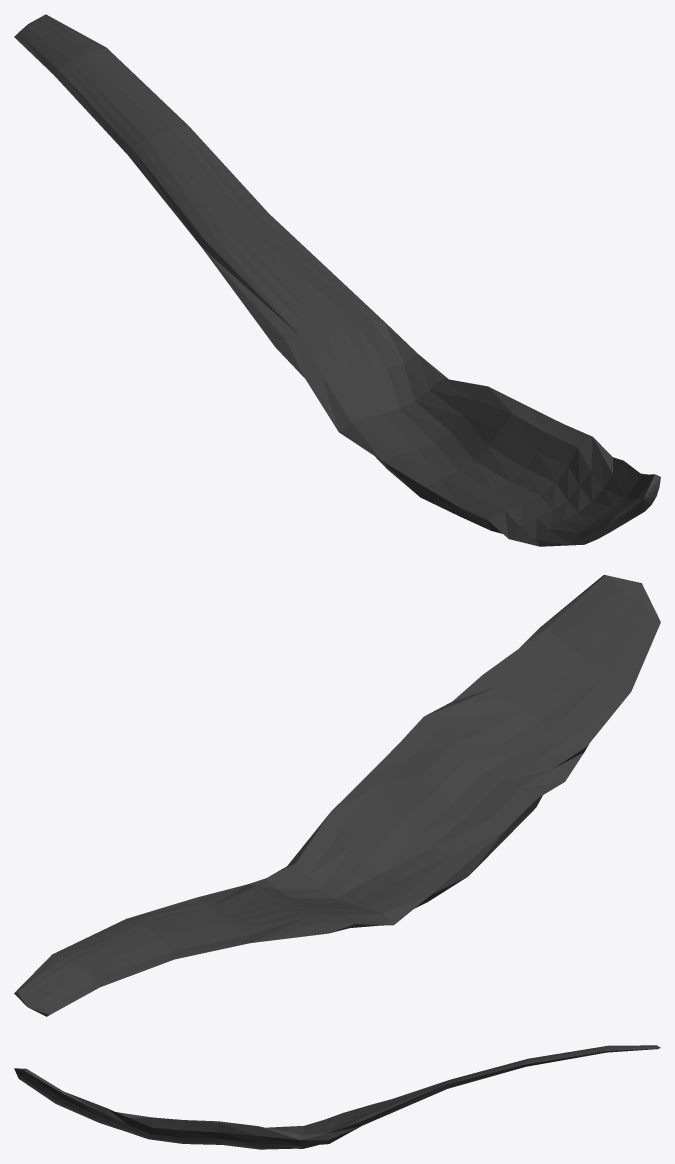
The model's file is Rectus_abdominis.glb.
3 renders of one model, top to bottom at view 1: azimuth 30°, elevation 25°; view 2: azimuth 150°, elevation 25°; view 3: azimuth 270°, elevation 25°, orthographic. The views are drawn at different scales.
Parts seen in each view (by area): view 1: Rectus_abdominis; view 2: Rectus_abdominis; view 3: Rectus_abdominis.
Part boxes in pixels (x1,y1,x2,y2): Rectus_abdominis: (14,14,660,546); Rectus_abdominis: (14,575,660,1016); Rectus_abdominis: (14,1045,660,1149).
Size of the model in its own units: 0.3435 by 0.5132 by 3.16.
1 material, 1 textured.
